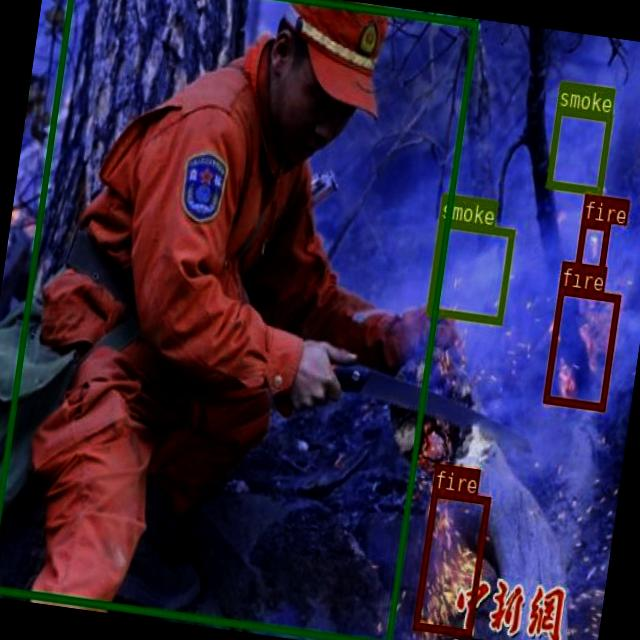fire: (412, 488, 490, 636), (542, 286, 620, 409), (574, 218, 610, 276)
smoke: (425, 219, 514, 324), (546, 106, 612, 195)
